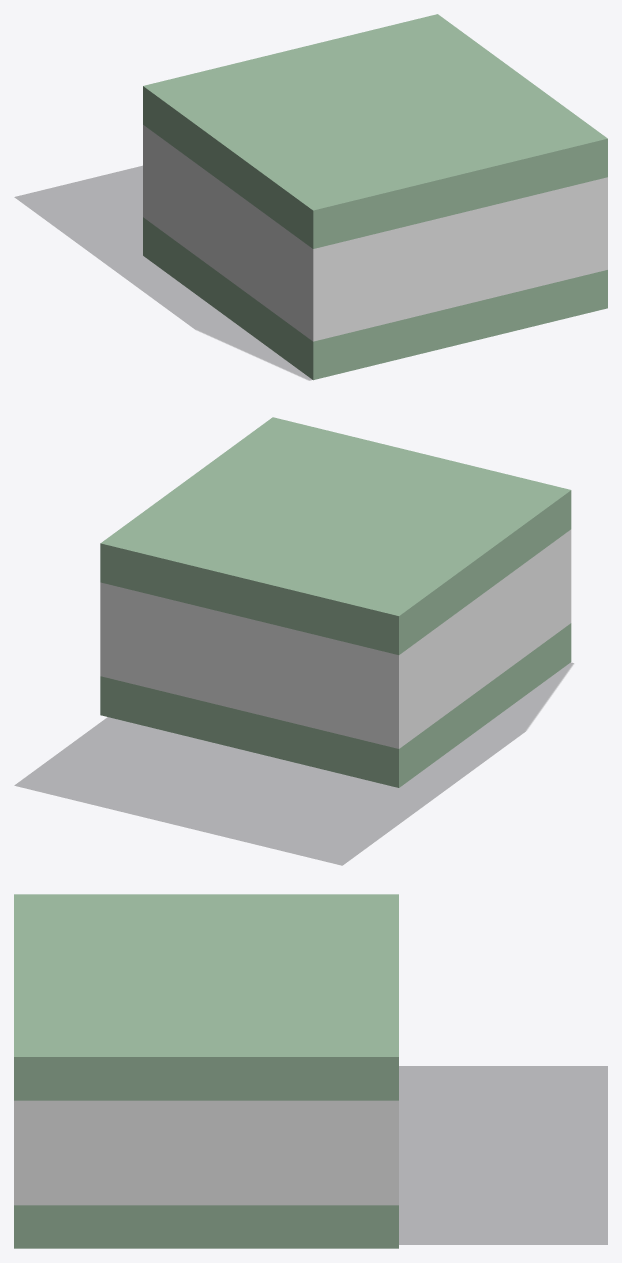
Rendered from block_05.glb.
3 views of the same model, one above another, from view 1: azimuth 30°, elevation 25°; view 2: azimuth 150°, elevation 25°; view 3: azimuth 270°, elevation 25° (orthographic). The views are drawn at different scales.
Parts seen in each view (by area): view 1: hitObj, block; view 2: hitObj, block; view 3: hitObj, block.
Part boxes in pixels (x1=…): hitObj: x1=143, y1=14, x2=607, y2=380; block: x1=15, y1=166, x2=311, y2=380; hitObj: x1=100, y1=417, x2=571, y2=787; block: x1=15, y1=663, x2=573, y2=865; hitObj: x1=14, y1=894, x2=398, y2=1248; block: x1=399, y1=1066, x2=607, y2=1244.
Size of the model in its own units: 11.24 by 5.51 by 15.43.
3 materials, 1 textured.
